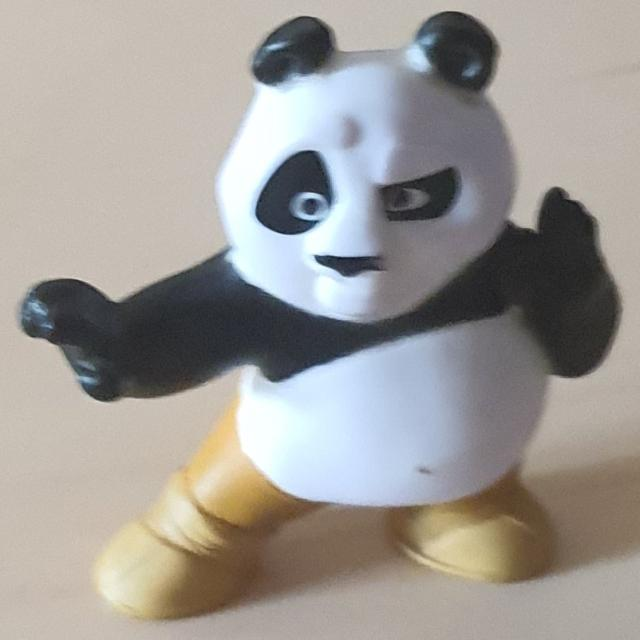Panda: (18, 10, 622, 620)
